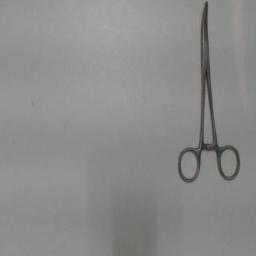Crile Artery Forceps: (173, 1, 243, 185)
